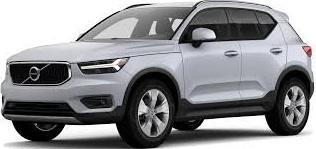SUV: (1, 1, 314, 147)
